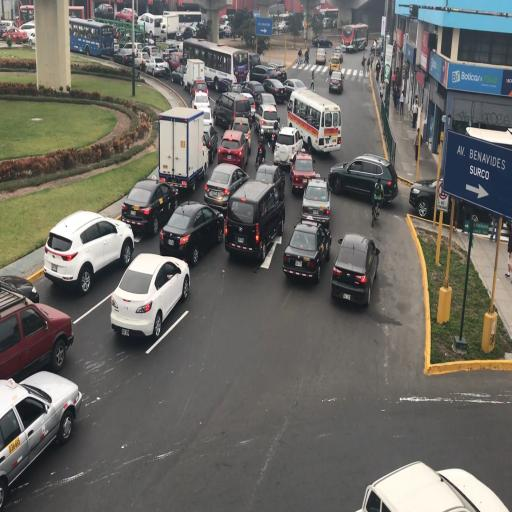auto: (2, 371, 82, 508), (352, 460, 510, 510), (44, 205, 133, 289), (1, 286, 73, 389), (110, 251, 190, 338), (225, 177, 282, 262), (159, 201, 223, 266), (328, 152, 394, 206), (332, 232, 378, 304), (122, 176, 177, 235), (282, 218, 330, 285), (205, 161, 249, 211), (410, 177, 454, 221), (300, 174, 330, 228), (214, 90, 251, 132), (215, 129, 250, 171), (254, 162, 286, 204), (290, 150, 318, 196), (0, 273, 39, 305), (274, 124, 302, 166), (254, 91, 278, 123), (262, 77, 288, 103), (252, 63, 282, 84), (115, 43, 142, 66), (192, 90, 211, 122), (283, 78, 308, 102), (144, 54, 168, 76), (1, 26, 30, 44), (190, 78, 208, 101), (115, 6, 138, 24), (166, 50, 183, 73), (328, 69, 344, 93), (169, 64, 186, 86), (140, 44, 161, 60), (94, 3, 113, 19), (0, 19, 16, 37), (312, 35, 332, 48), (328, 55, 341, 73), (124, 42, 143, 54), (333, 45, 346, 61), (315, 48, 326, 64), (279, 20, 290, 33)
bus: (158, 106, 206, 196)
moto: (287, 88, 340, 153), (183, 38, 242, 92), (69, 16, 115, 58), (138, 11, 170, 41), (170, 9, 203, 37), (341, 22, 368, 52), (19, 4, 35, 26)
